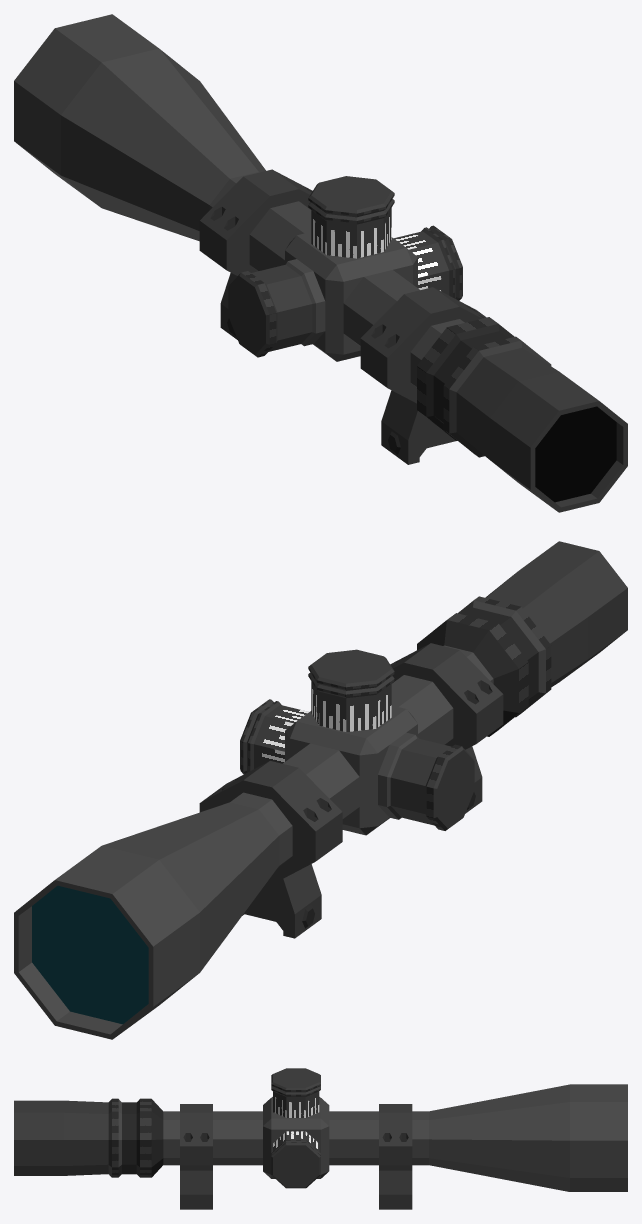
3 renders of one model, top to bottom at view 1: azimuth 30°, elevation 25°; view 2: azimuth 150°, elevation 25°; view 3: azimuth 270°, elevation 25°, orthographic. The views are drawn at different scales.
Parts seen in each view (by area): view 1: nxs - body; view 2: nxs - body; view 3: nxs - body.
Boxes of the visible parts, bbox=[...] form: nxs - body: bbox=[14, 14, 627, 512]; nxs - body: bbox=[14, 541, 627, 1039]; nxs - body: bbox=[14, 1068, 627, 1209].
Size of the model in its own units: 0.085 by 0.08 by 0.37.
1 material, 1 textured.
